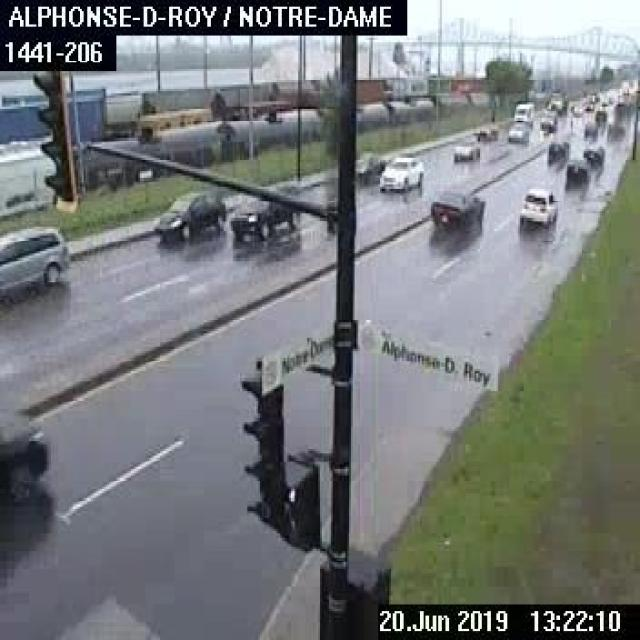vehicle: (0, 222, 69, 294), (0, 409, 49, 504), (154, 185, 226, 242), (228, 189, 302, 242), (427, 184, 484, 224), (376, 153, 422, 191), (516, 185, 556, 222), (355, 152, 384, 180), (449, 135, 480, 160), (546, 89, 568, 115), (512, 100, 534, 126), (564, 160, 590, 180), (545, 138, 568, 160), (538, 108, 557, 132), (474, 121, 498, 139), (506, 120, 527, 140), (583, 139, 602, 161), (582, 119, 596, 138)
